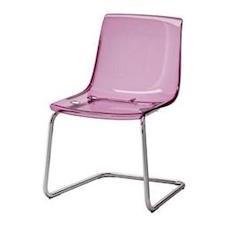chair: (28, 5, 221, 225)
